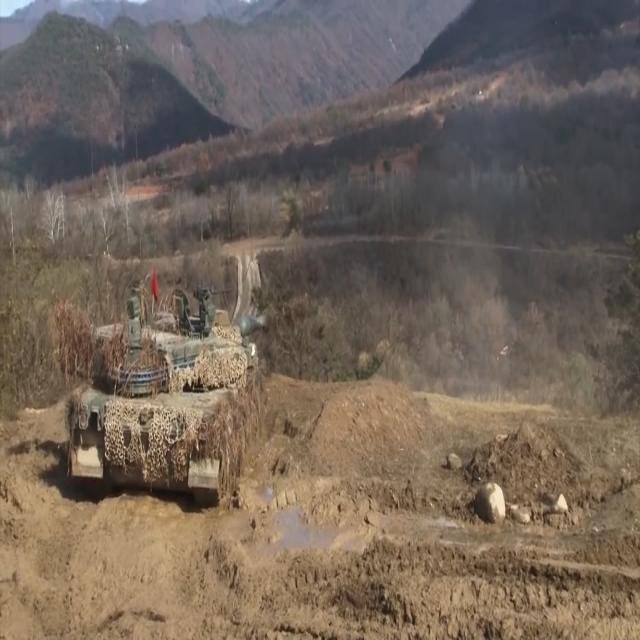korea tank: (54, 284, 312, 514)
